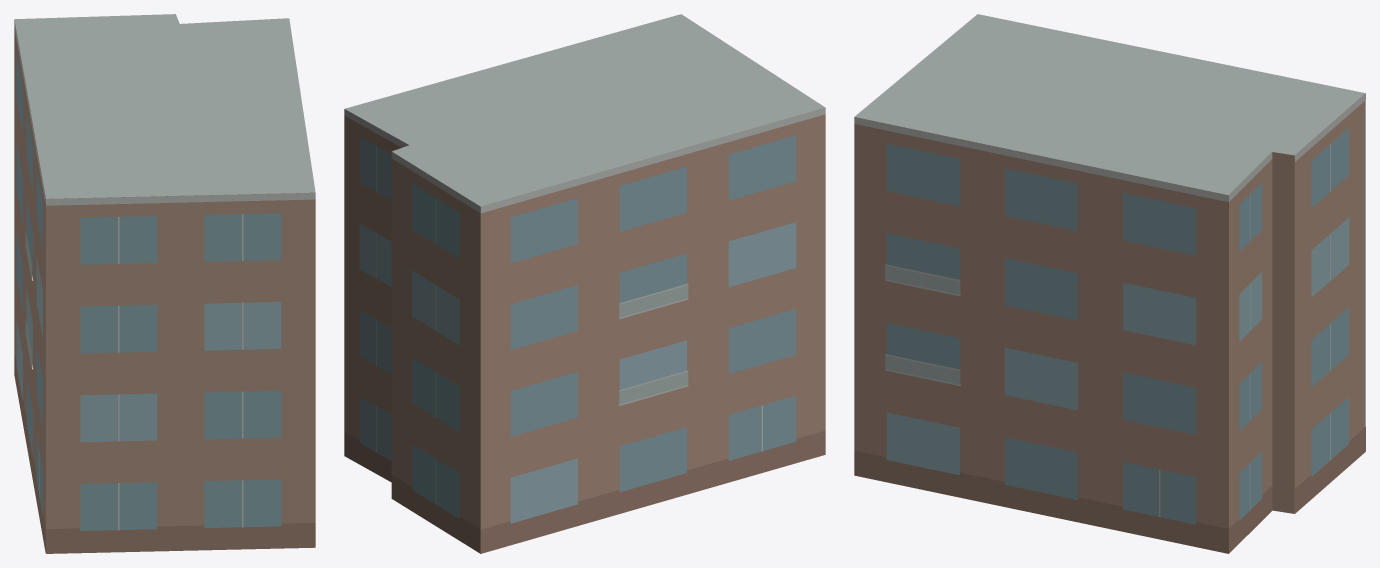
The model's file is survey-upis-32533875.glb.
The picture shows the model from 3 angles, left to right: view 1: azimuth 30°, elevation 25°; view 2: azimuth 150°, elevation 25°; view 3: azimuth 270°, elevation 25°; orthographic projection. The views are drawn at different scales.
Visible parts, largest first — view 1: survey-upis-32533875.tmp; view 2: survey-upis-32533875.tmp; view 3: survey-upis-32533875.tmp.
Boxes of the visible parts, bbox=[...] form: survey-upis-32533875.tmp: bbox=[14, 14, 315, 553]; survey-upis-32533875.tmp: bbox=[344, 14, 825, 553]; survey-upis-32533875.tmp: bbox=[854, 14, 1365, 553].
Bounding box in the file's own units: 13.61 × 12.55 × 16.23.
